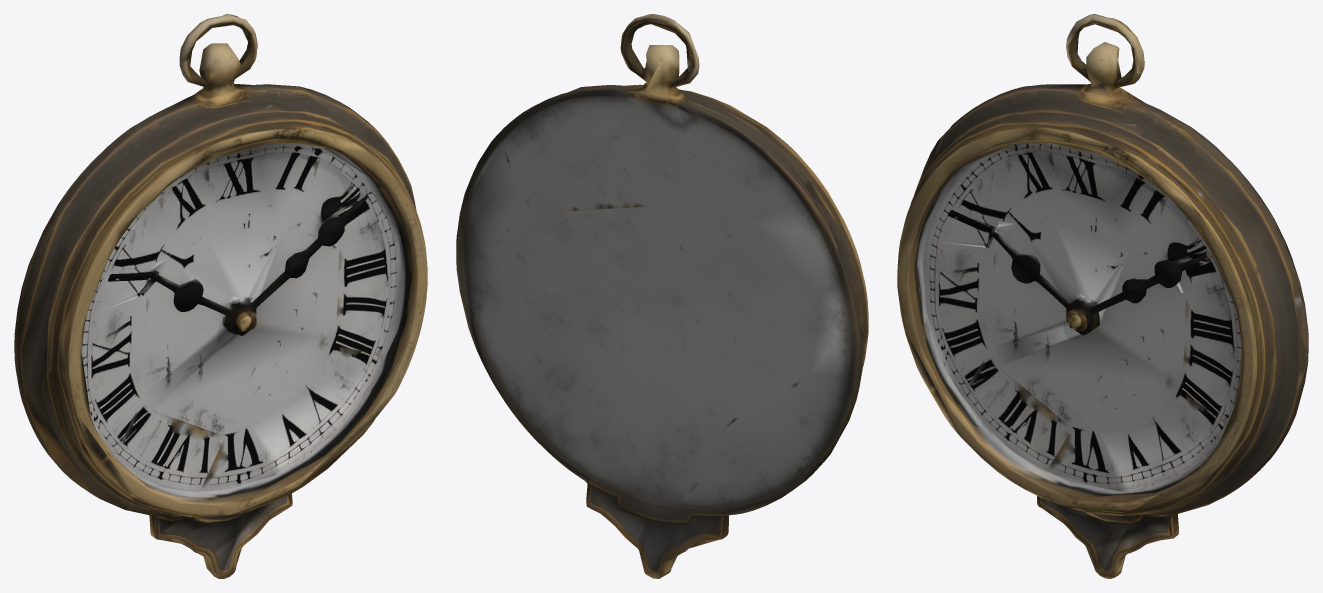
The model's file is lhi_wall_clock.glb.
The picture shows the model from 3 angles, left to right: view 1: azimuth 30°, elevation 25°; view 2: azimuth 150°, elevation 25°; view 3: azimuth 330°, elevation 25°; orthographic projection.
Visible parts, largest first — view 1: material; view 2: material; view 3: material.
Boxes of the visible parts, x1,y1,x2,y2 form: material: (14, 14, 427, 578); material: (456, 14, 868, 578); material: (897, 14, 1308, 578).
Bounding box in the file's own units: 0.8974 × 1.2 × 0.1447.
Materials: 1 (1 with a texture image).
